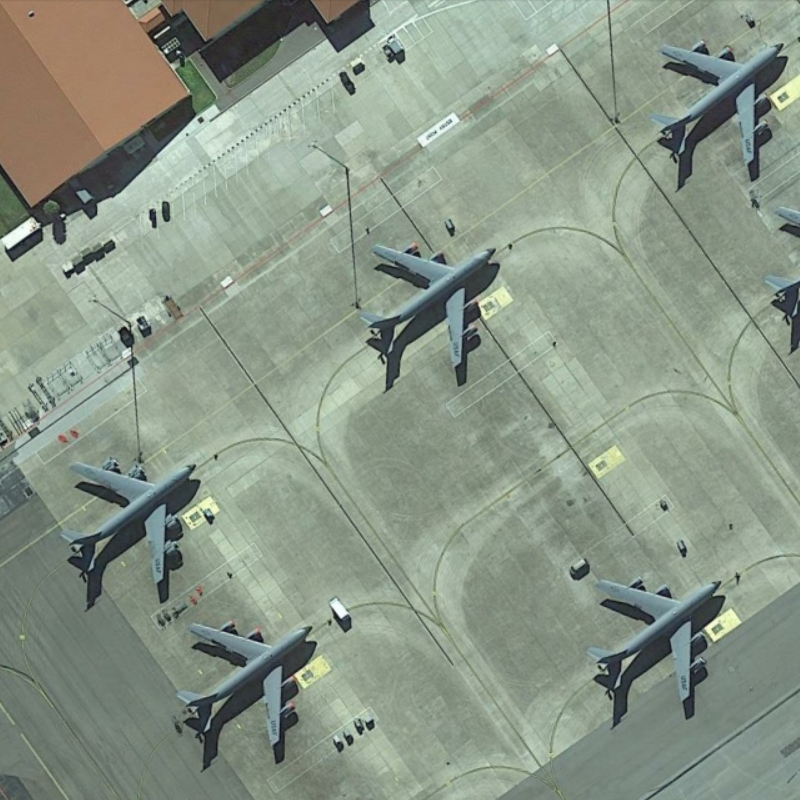A14: (358, 232, 500, 378), (56, 453, 201, 590), (645, 32, 788, 170), (583, 572, 725, 708), (173, 617, 317, 749)
